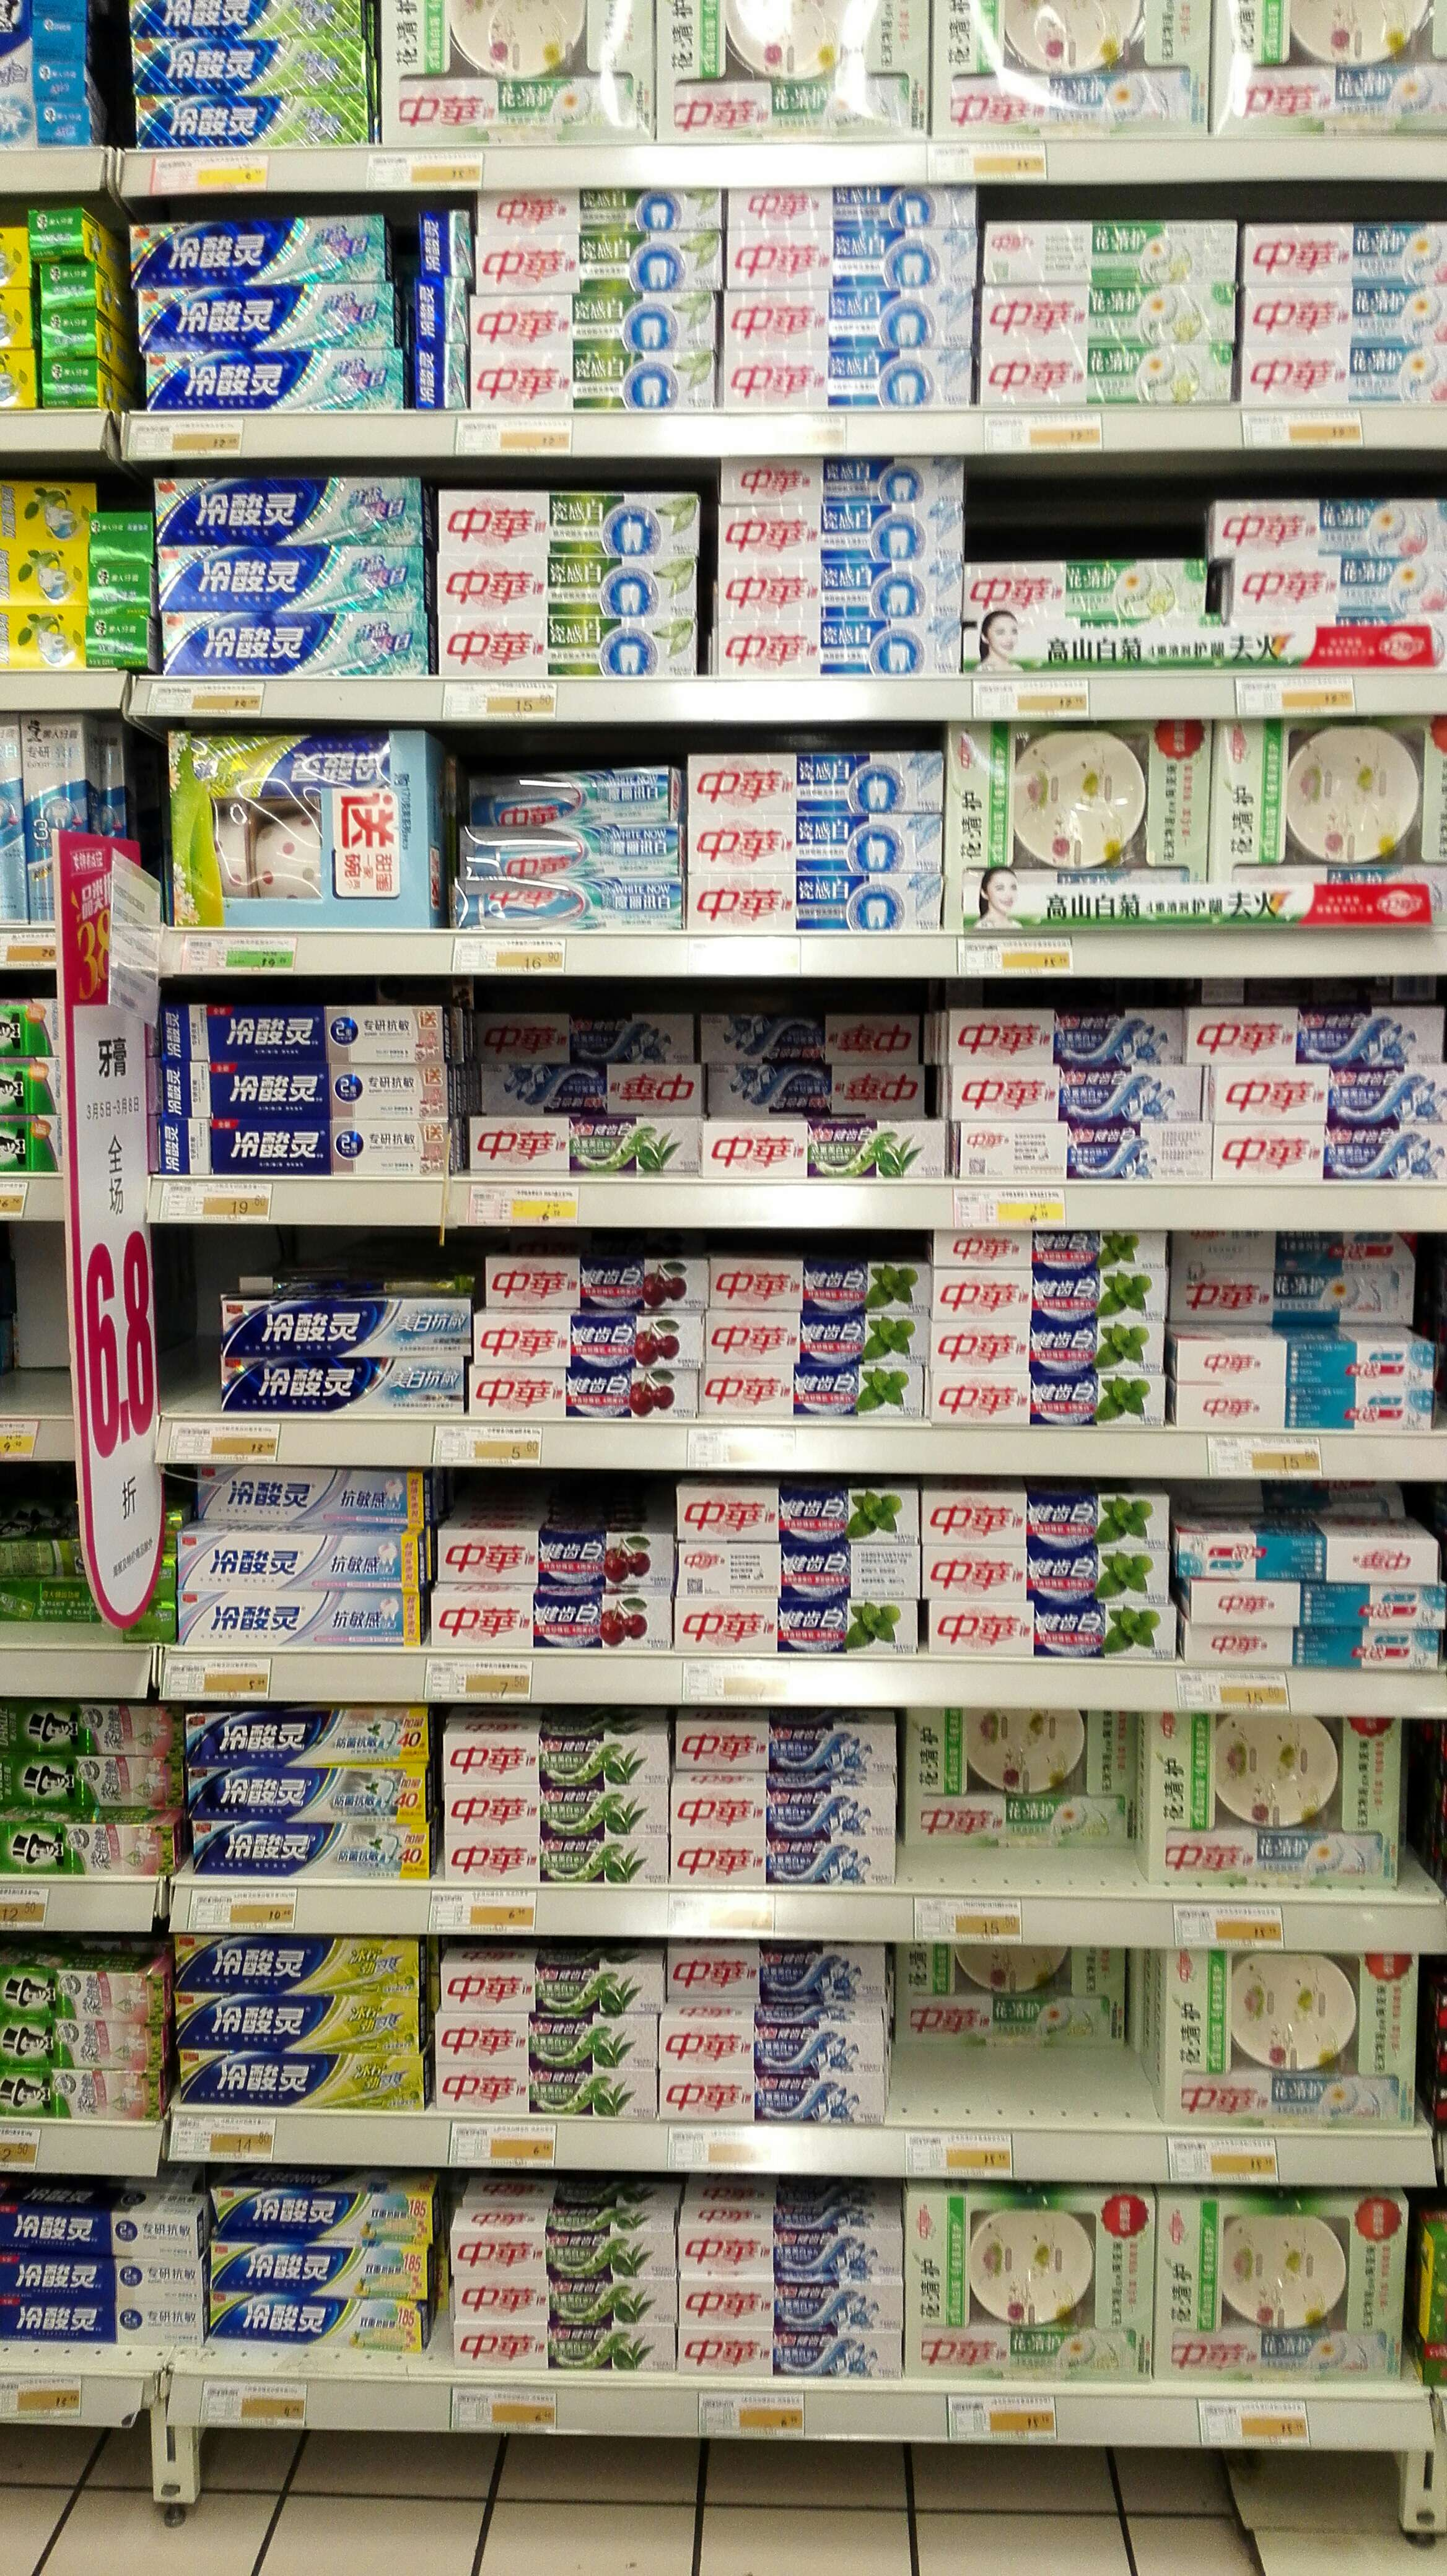Misplacement: (904, 1713, 1145, 1886)
